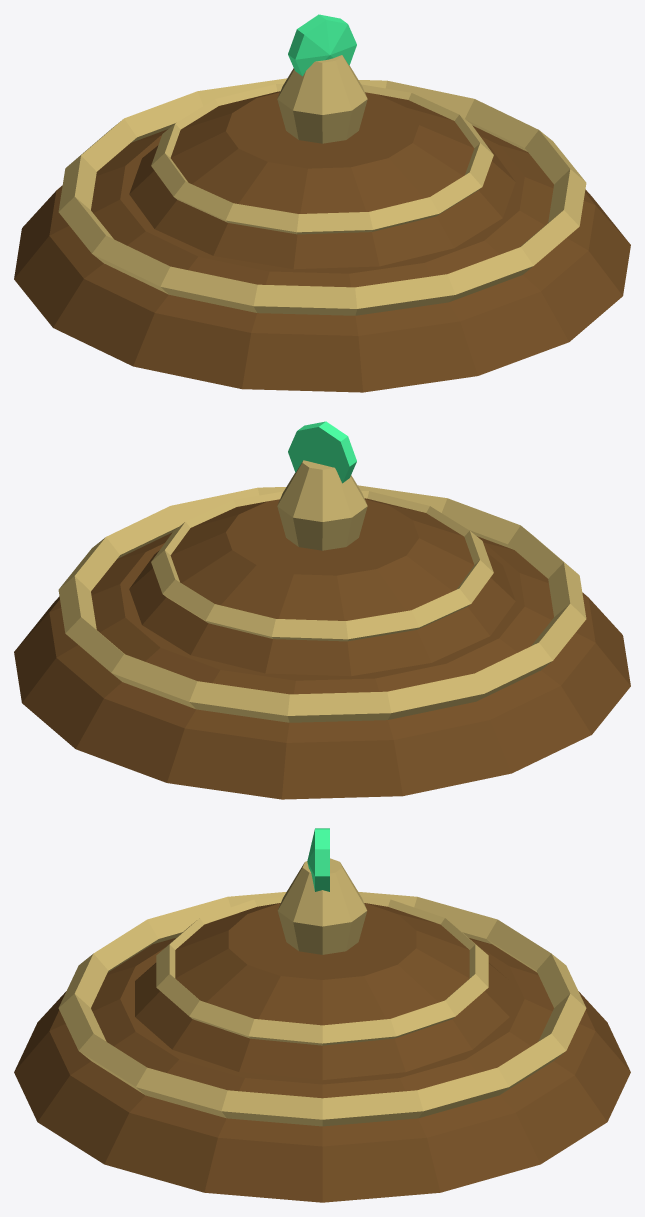
File: pagoda_lid.obj
3 renders of one model, top to bottom at view 1: azimuth 30°, elevation 25°; view 2: azimuth 150°, elevation 25°; view 3: azimuth 270°, elevation 25°, orthographic.
Parts seen in each view (by area): view 1: pagoda_lower, pagoda_upper, pagoda_lower_eave, pagoda_upper_eave, pagoda_finial, pagoda_gem; view 2: pagoda_lower, pagoda_upper, pagoda_lower_eave, pagoda_upper_eave, pagoda_finial, pagoda_gem; view 3: pagoda_lower, pagoda_upper, pagoda_lower_eave, pagoda_upper_eave, pagoda_finial, pagoda_gem.
Part boxes in pixels (x1,y1,x2,y2): pagoda_lower: [14, 125, 630, 392]; pagoda_upper: [129, 91, 515, 269]; pagoda_lower_eave: [58, 78, 586, 315]; pagoda_upper_eave: [151, 84, 493, 234]; pagoda_finial: [277, 55, 367, 143]; pagoda_gem: [288, 14, 356, 76]; pagoda_lower: [14, 532, 630, 799]; pagoda_upper: [129, 498, 515, 676]; pagoda_lower_eave: [58, 485, 586, 722]; pagoda_upper_eave: [151, 491, 493, 641]; pagoda_finial: [277, 460, 367, 550]; pagoda_gem: [288, 421, 356, 483]; pagoda_lower: [14, 938, 630, 1202]; pagoda_upper: [135, 903, 509, 1080]; pagoda_lower_eave: [58, 892, 586, 1126]; pagoda_upper_eave: [156, 896, 488, 1045]; pagoda_finial: [277, 858, 367, 954]; pagoda_gem: [307, 828, 329, 891].
Bounding box in the file's own units: 1.22 × 0.53 × 1.22.
